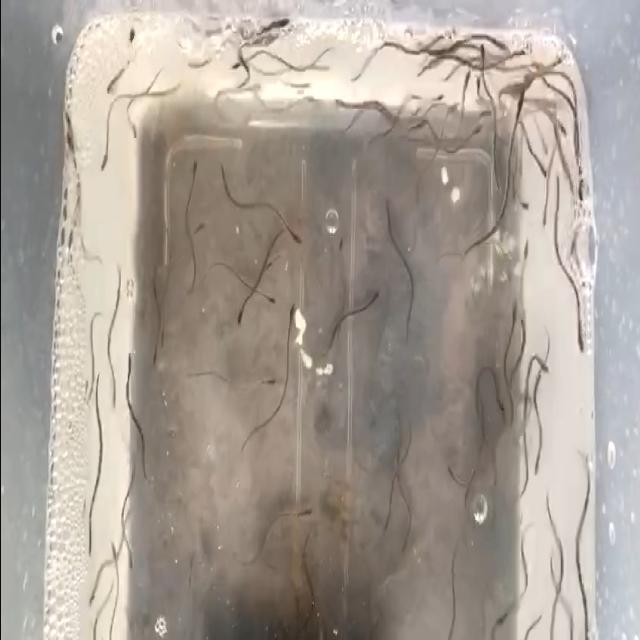inactive_glass_eel: (272, 15, 290, 48), (573, 320, 587, 360), (264, 354, 278, 392), (231, 302, 243, 346), (512, 39, 530, 66), (536, 202, 548, 242), (267, 286, 285, 312), (397, 529, 411, 561), (448, 90, 462, 122), (520, 235, 531, 272), (286, 290, 296, 330), (469, 118, 485, 143), (376, 518, 392, 542), (556, 48, 570, 74), (288, 223, 300, 253), (516, 314, 526, 348), (509, 294, 519, 328), (382, 186, 394, 213), (85, 584, 97, 610), (300, 500, 314, 522), (335, 231, 346, 259), (86, 530, 96, 560), (303, 92, 318, 112), (492, 33, 505, 55), (443, 461, 458, 480), (556, 112, 566, 140), (125, 340, 133, 374), (476, 36, 484, 70), (152, 335, 160, 367), (190, 158, 200, 182), (462, 68, 474, 88), (131, 119, 140, 145), (469, 78, 482, 96), (434, 82, 444, 105), (126, 540, 134, 568), (517, 198, 529, 216), (98, 148, 108, 169), (110, 542, 118, 568), (532, 454, 542, 474), (368, 290, 380, 306), (538, 356, 548, 374), (496, 396, 504, 418), (129, 28, 134, 50)
